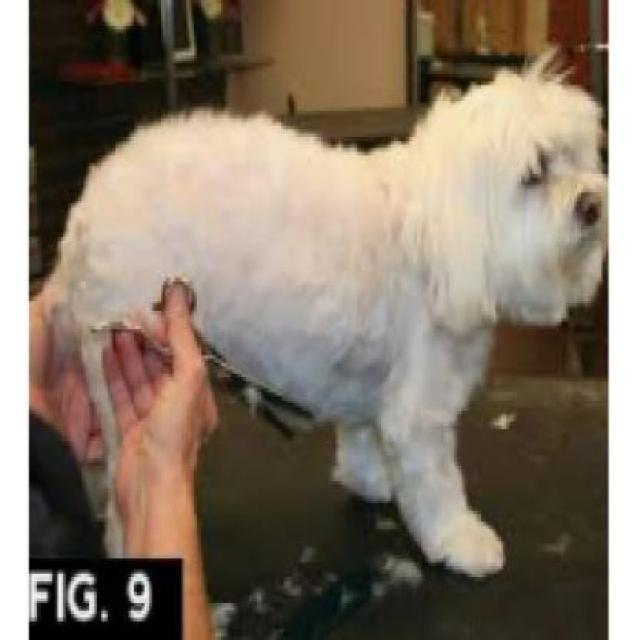Dog: (32, 48, 608, 575)
